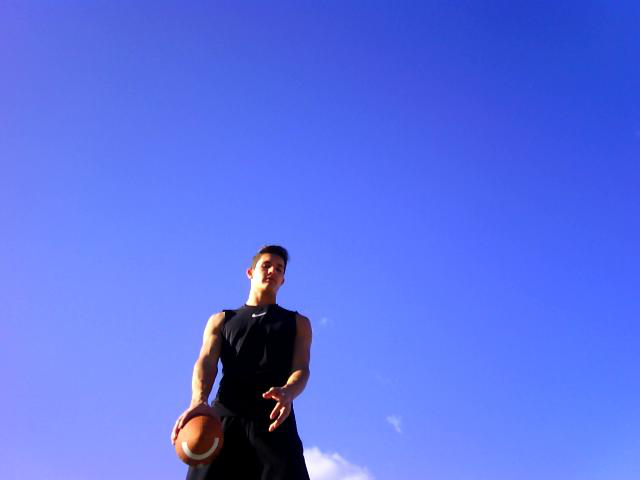football: (173, 412, 225, 470)
